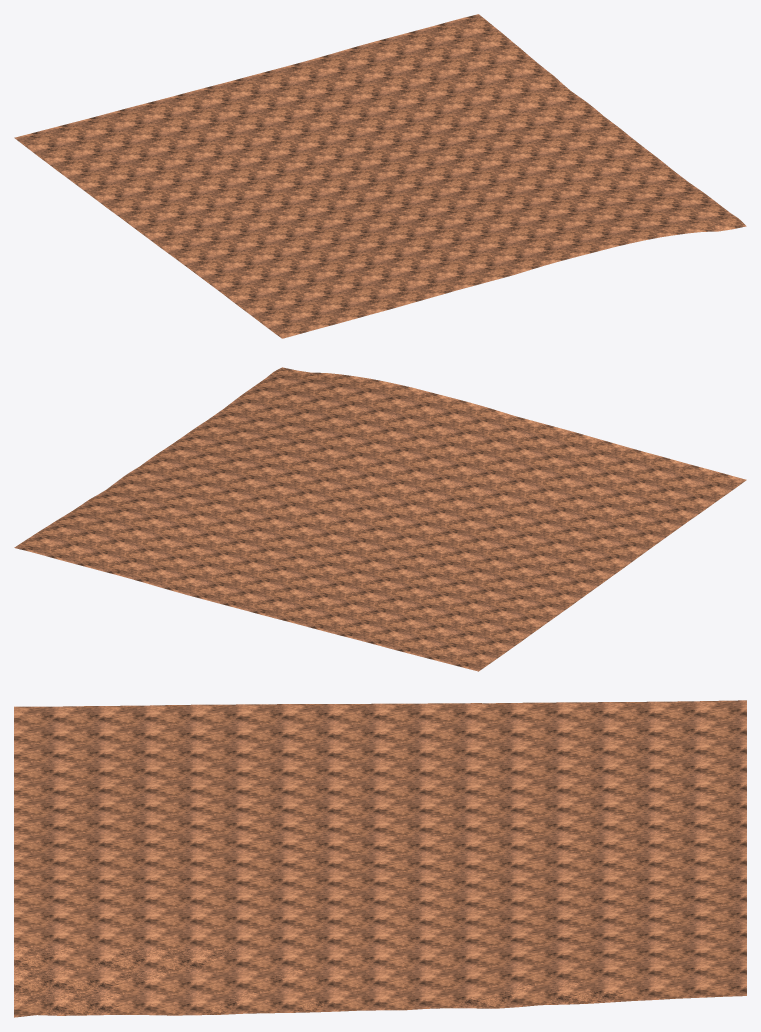
The model's file is terrain_08_12.dae.
3 renders of one model, top to bottom at view 1: azimuth 30°, elevation 25°; view 2: azimuth 150°, elevation 25°; view 3: azimuth 270°, elevation 25°, orthographic. The views are drawn at different scales.
Parts seen in each view (by area): view 1: terrain_08_12-node; view 2: terrain_08_12-node; view 3: terrain_08_12-node.
Part boxes in pixels (bbox=[...]): terrain_08_12-node: bbox=[14, 14, 746, 338]; terrain_08_12-node: bbox=[14, 367, 746, 671]; terrain_08_12-node: bbox=[14, 700, 746, 1017].
Bounding box in the file's own units: 128 × 128 × 4.17.
1 material, 1 textured.
